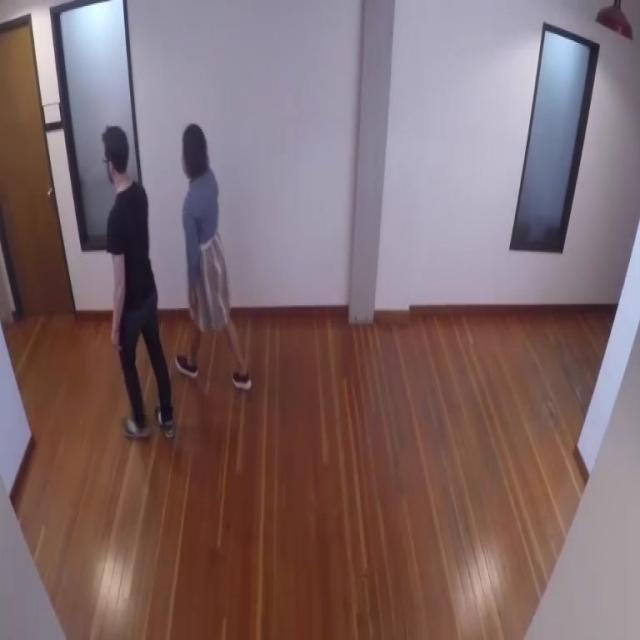Stupid: (101, 124, 175, 440), (175, 122, 252, 390)
